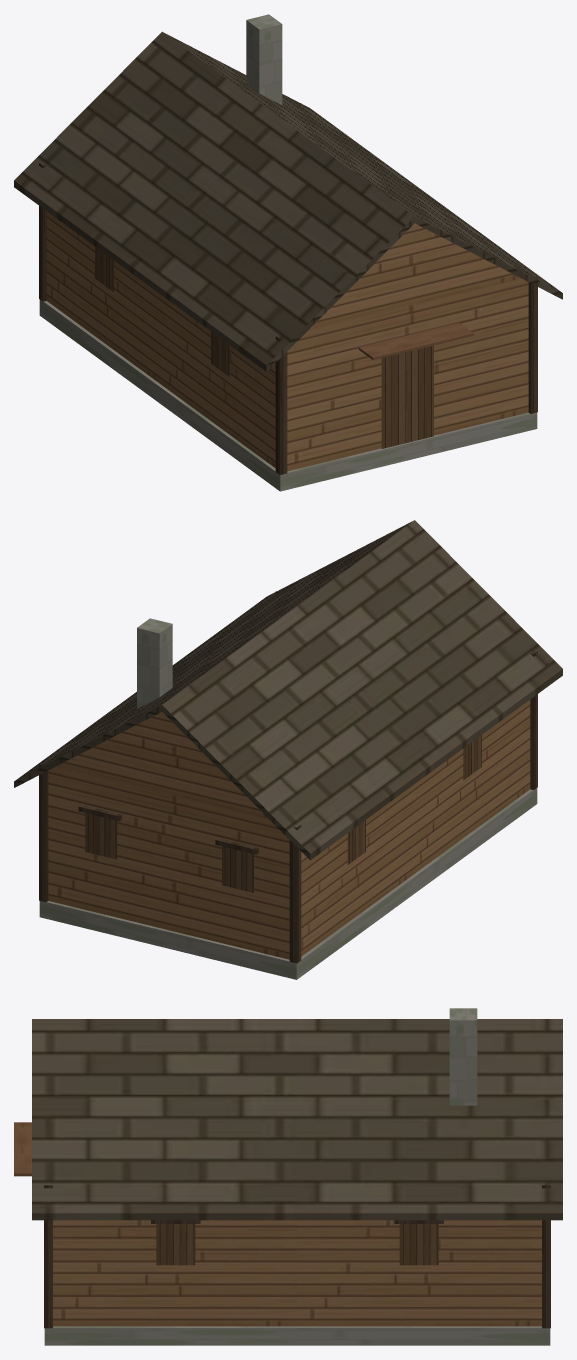
Rendered from ae_forest_wood_large_hall_lod1.glb.
The picture shows the model from 3 angles, top to bottom: view 1: azimuth 30°, elevation 25°; view 2: azimuth 150°, elevation 25°; view 3: azimuth 270°, elevation 25°; orthographic projection. The views are drawn at different scales.
Visible parts, largest first — view 1: ae_forest_wood_large_hall_lod1; view 2: ae_forest_wood_large_hall_lod1; view 3: ae_forest_wood_large_hall_lod1.
Part boxes in pixels (<box>): ae_forest_wood_large_hall_lod1: <box>14,14,562,491</box>; ae_forest_wood_large_hall_lod1: <box>14,520,562,979</box>; ae_forest_wood_large_hall_lod1: <box>14,1008,562,1345</box>.
Size of the model in its own units: 6.5 by 5.85 by 9.93.
1 material, 1 textured.
